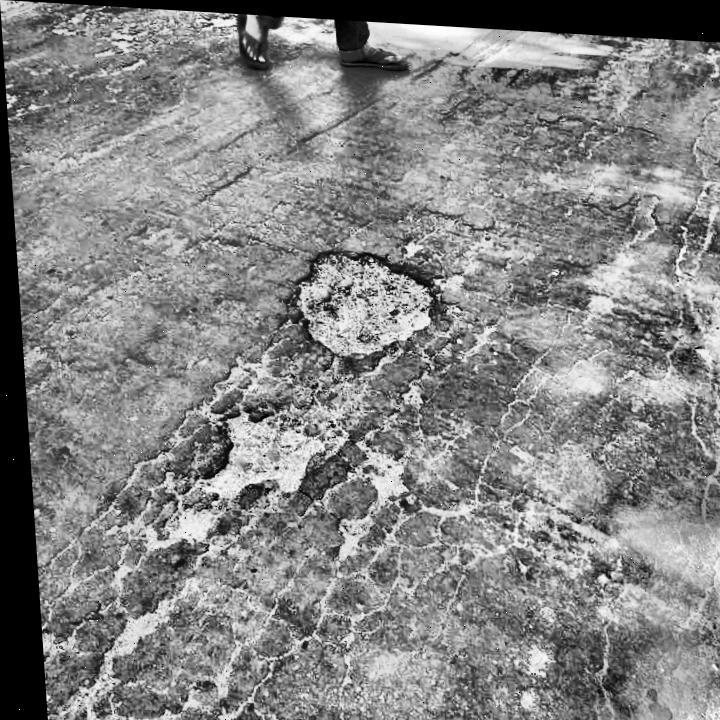pothole: (281, 239, 434, 357), (182, 401, 321, 499)
